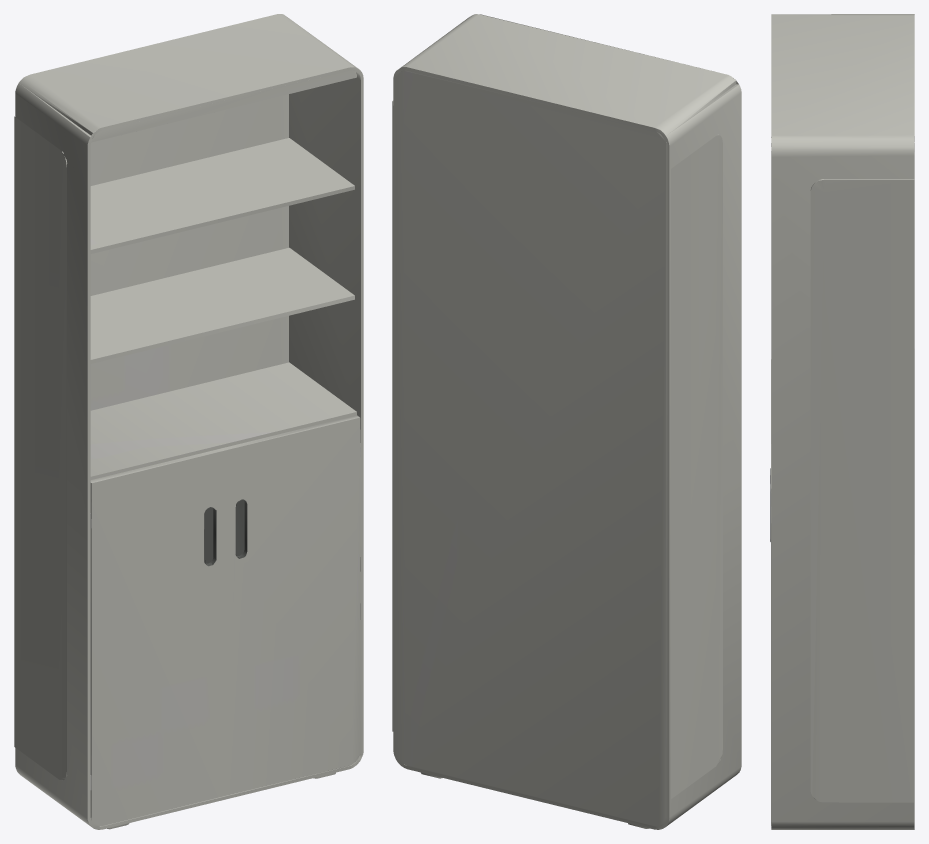
File: simready-cabinet-filing.lite.885f429e.glb
3 renders of one model, left to right at view 1: azimuth 30°, elevation 25°; view 2: azimuth 150°, elevation 25°; view 3: azimuth 270°, elevation 25°, orthographic.
Visible parts, largest first — view 1: model; view 2: model; view 3: model.
Boxes of the visible parts, x1,y1,x2,y2 form: model: (14, 14, 363, 829); model: (392, 14, 741, 829); model: (770, 14, 914, 829).
Size of the model in its own units: 0.8256 by 2 by 0.3747.
Materials: 3 (3 with a texture image).
